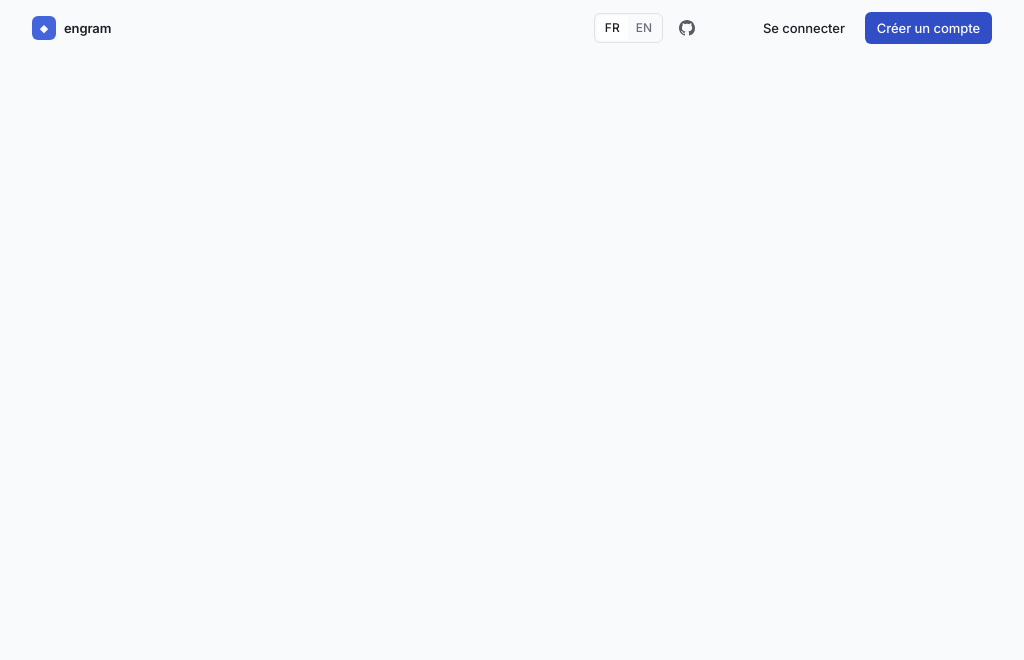
it: <LandingPage> — parametric claims match their source › names the two review verdicts the session offers, in both languages
Click the button "en": (644, 28) [628,16,660,40]
(page scrolled)
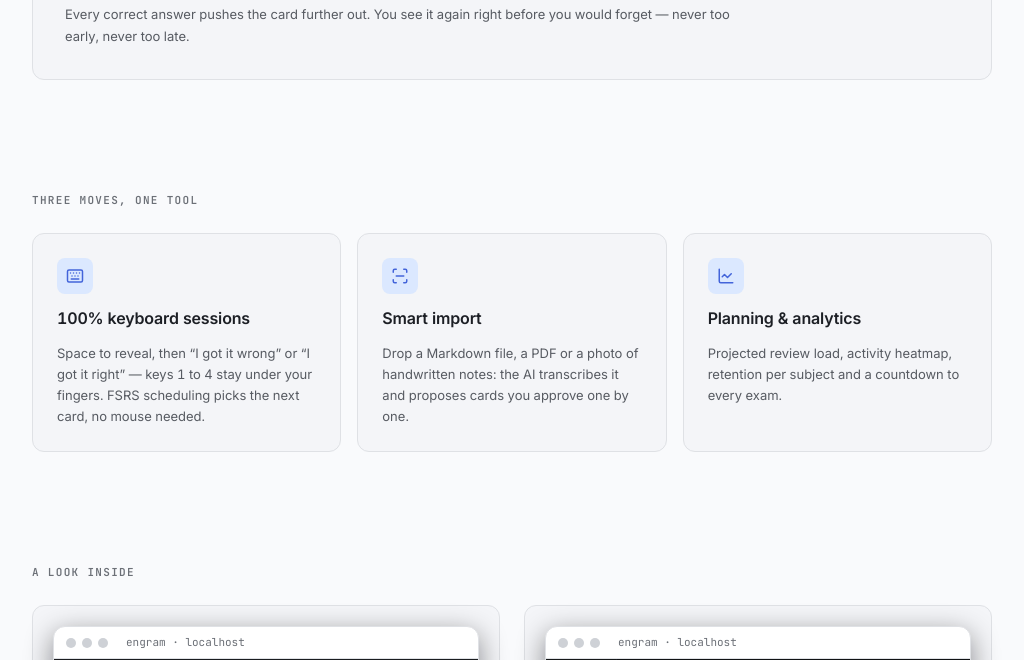
Expected: the text "I got it right" is shown, [57,344,312,424]
